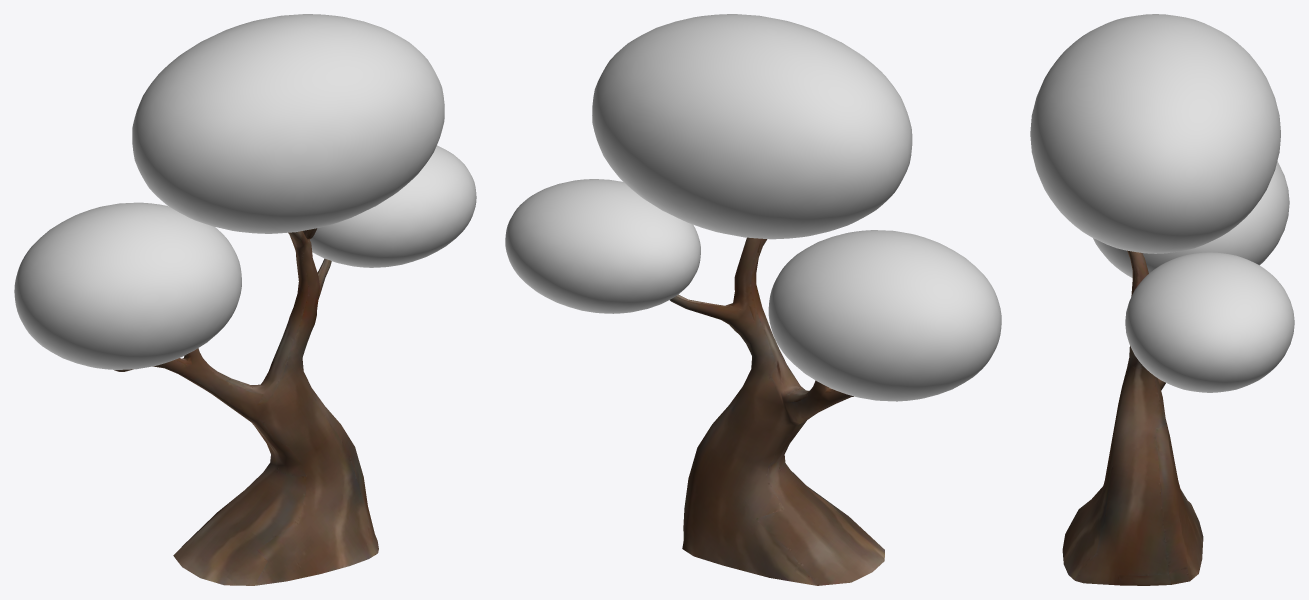
File: Tree.glb
3 views of the same model, side by side, from view 1: azimuth 30°, elevation 25°; view 2: azimuth 150°, elevation 25°; view 3: azimuth 270°, elevation 25° (orthographic). The views are drawn at different scales.
Parts seen in each view (by area): view 1: Leaves, Tree; view 2: Leaves, Tree; view 3: Leaves, Tree.
Part boxes in pixels (bbox=[...]): Leaves: bbox=[14, 14, 476, 369]; Tree: bbox=[114, 228, 378, 585]; Leaves: bbox=[505, 14, 1001, 401]; Tree: bbox=[670, 237, 884, 585]; Leaves: bbox=[1030, 14, 1294, 392]; Tree: bbox=[1062, 250, 1203, 585].
Bounding box in the file's own units: 9.54 × 10.25 × 4.73.
1 material, 1 textured.
